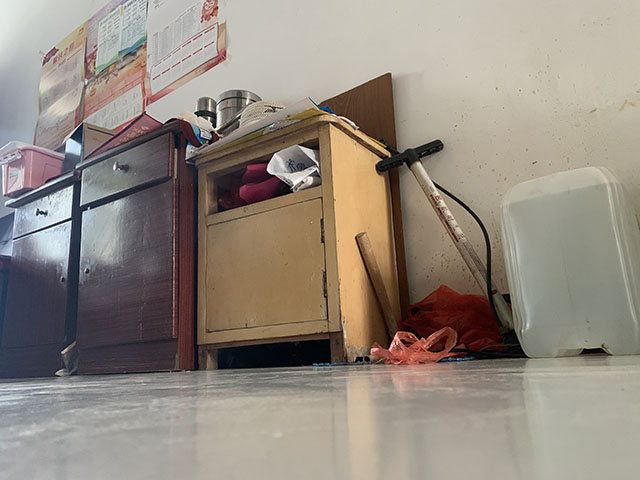cabinet: (193, 111, 405, 372), (1, 119, 198, 379)
